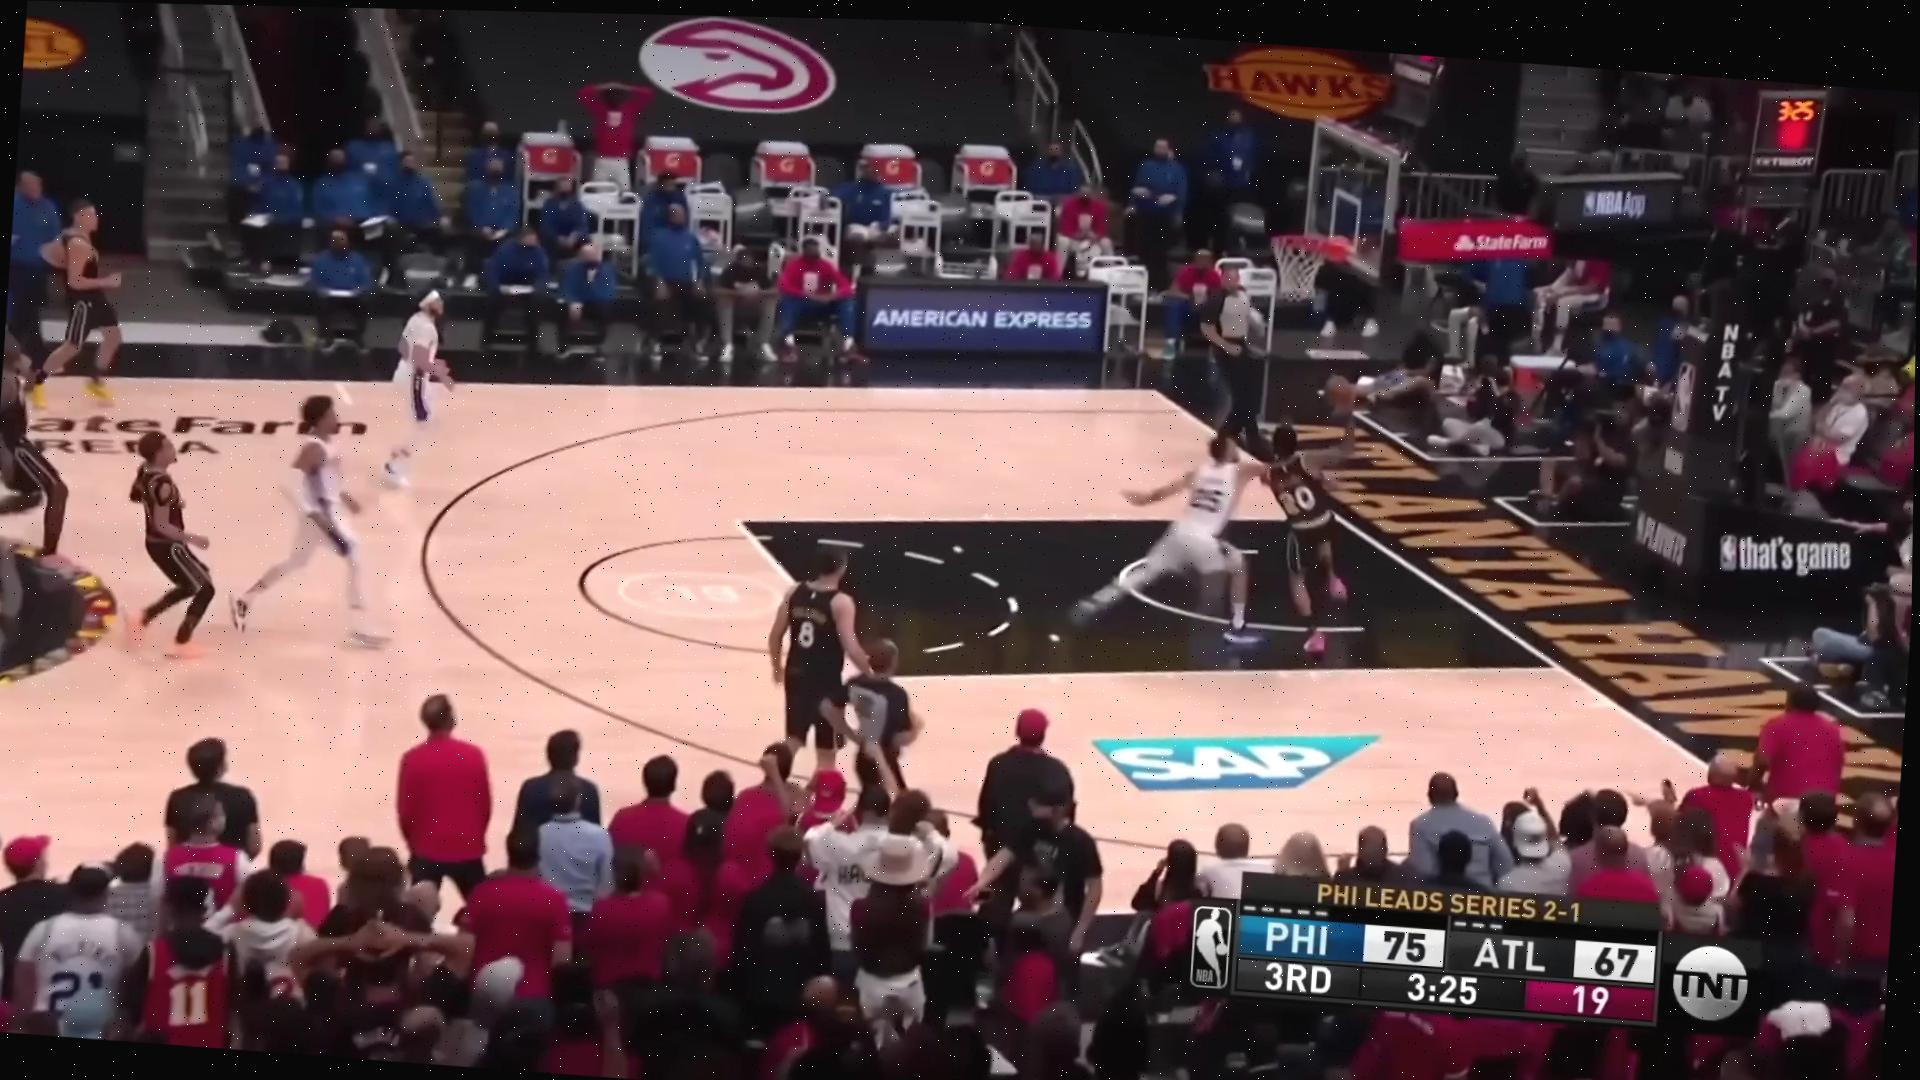foul: (1100, 365, 1377, 680)
